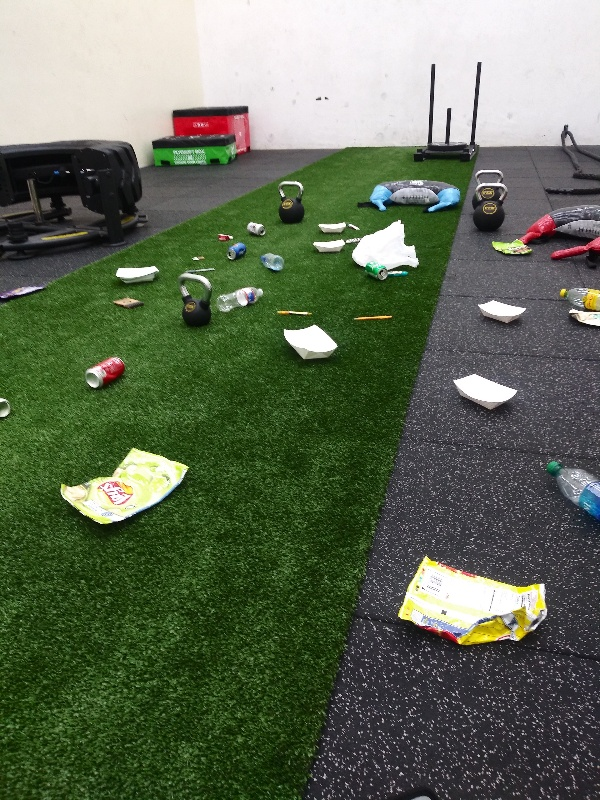bag: (392, 554, 553, 644), (58, 447, 194, 532), (488, 236, 533, 260), (1, 281, 47, 303), (567, 306, 600, 328)
bottle: (544, 457, 600, 525), (215, 285, 265, 317), (558, 286, 600, 312), (258, 249, 285, 273)
can: (82, 354, 127, 392), (223, 241, 250, 262), (363, 261, 388, 282), (244, 221, 268, 238), (1, 397, 12, 420)
plate: (452, 372, 519, 411), (280, 325, 340, 360), (474, 297, 531, 327), (111, 263, 162, 287), (310, 238, 348, 255), (317, 220, 350, 235)
